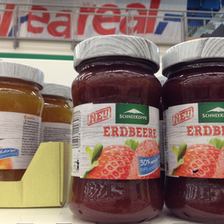jam: (72, 35, 163, 222), (162, 37, 223, 224), (1, 60, 42, 183)
